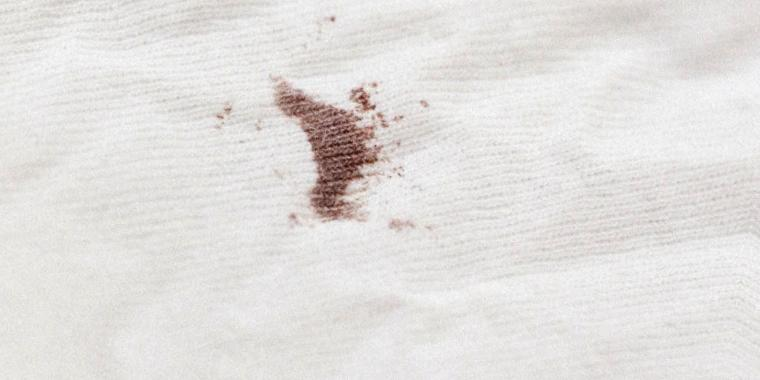stain: (266, 71, 396, 226)
